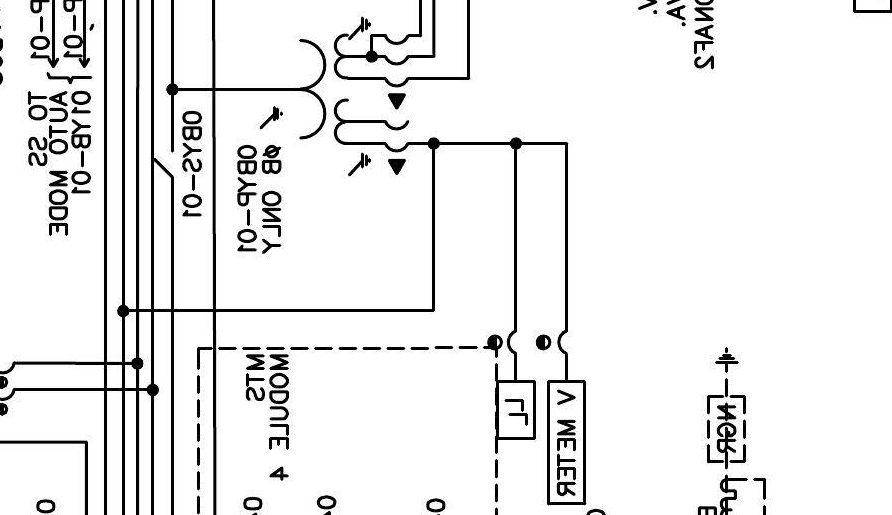115_ds: (154, 148, 175, 178)
115_vt_1p: (258, 15, 410, 177)
LL: (496, 379, 537, 441)
v_m_digital: (546, 379, 587, 506)
